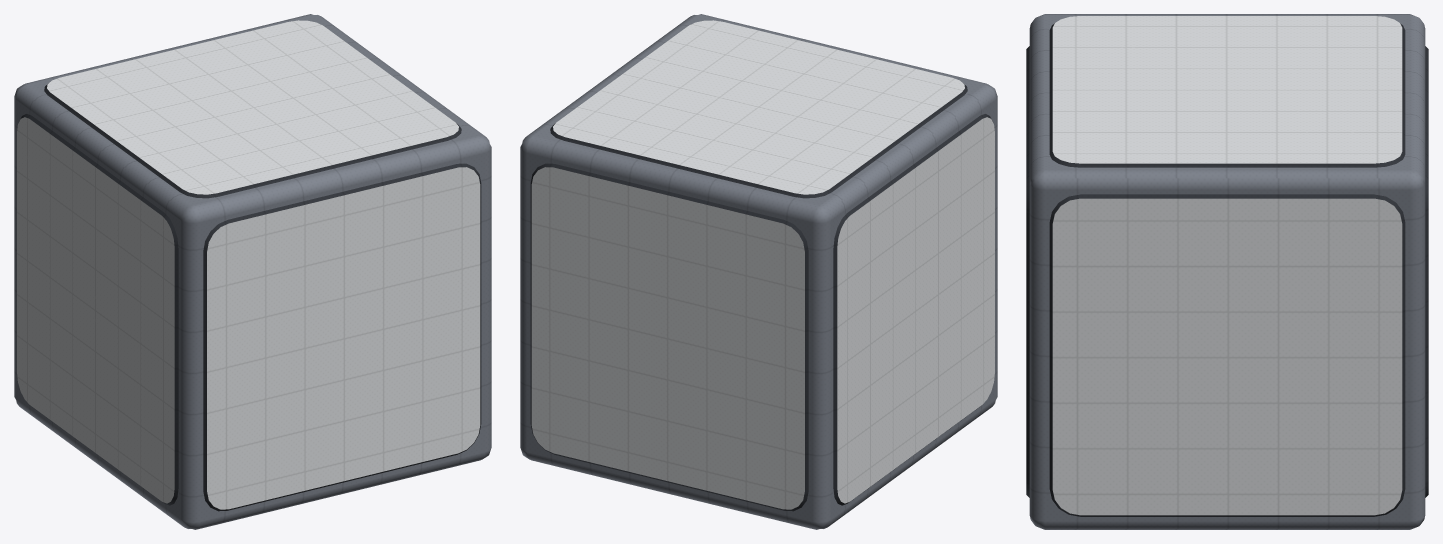
3 renders of one model, left to right at view 1: azimuth 30°, elevation 25°; view 2: azimuth 150°, elevation 25°; view 3: azimuth 270°, elevation 25°, orthographic. The views are drawn at different scales.
Visible parts, largest first — view 1: R4B_Cube; view 2: R4B_Cube; view 3: R4B_Cube.
Part boxes in pixels (x1,y1,x2,y2): R4B_Cube: [14, 14, 491, 529]; R4B_Cube: [520, 14, 997, 529]; R4B_Cube: [1026, 14, 1428, 529].
Bounding box in the file's own units: 0.52 × 0.52 × 0.52.
3 materials, 3 textured.
